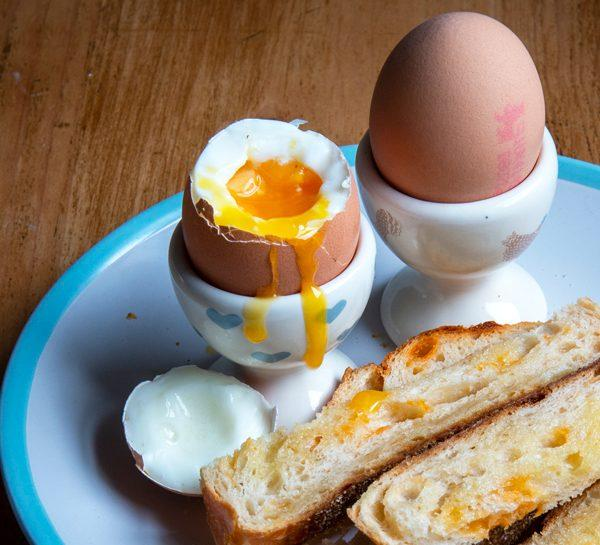eggs: (375, 0, 532, 226), (175, 122, 333, 307)
